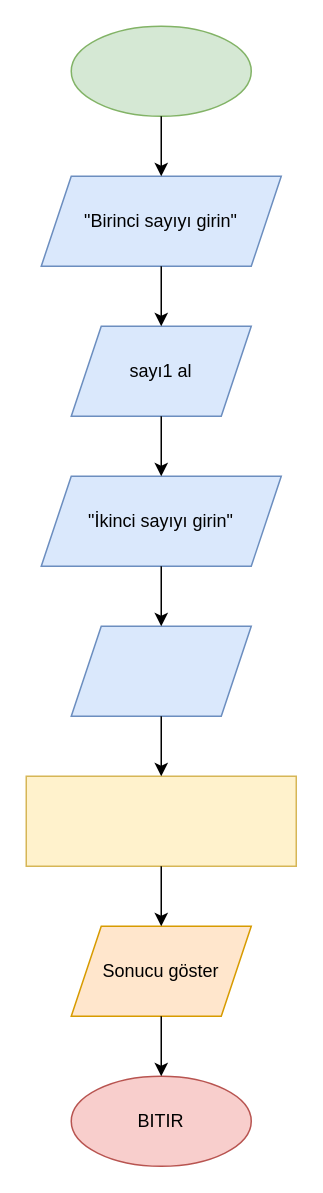
The diagram is 323 pixels wide and 1193 high, and some of its shapes have lost their labels. The box of each missing label's shape, as (x1, y1, x2, y2) in pixels:
BAŞLA: (70, 25, 251, 116)
sayı2 al: (70, 625, 251, 716)
toplam ← sayı1 + sayı2: (25, 775, 296, 866)
